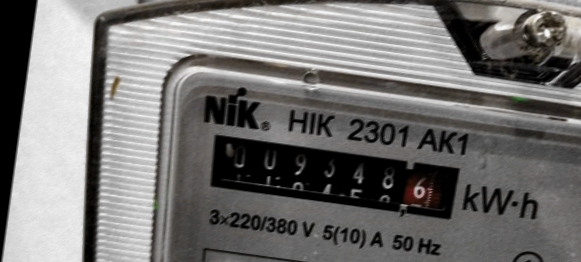0: (229, 142, 248, 170), (260, 143, 277, 170)
3: (320, 152, 338, 179)
4: (347, 154, 369, 186)
6: (408, 170, 429, 201)
8: (378, 161, 397, 191)
9: (290, 150, 308, 179)
screen: (188, 117, 474, 231)
